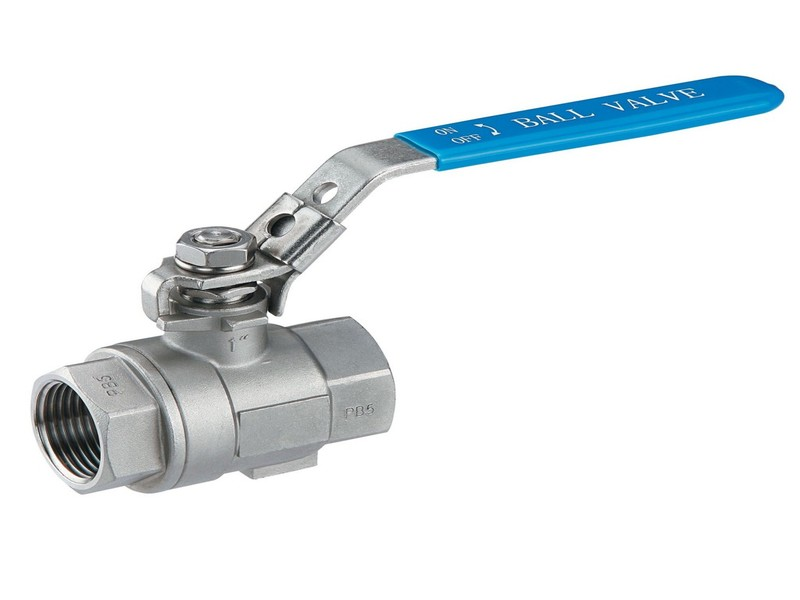valve: (7, 19, 797, 558)
